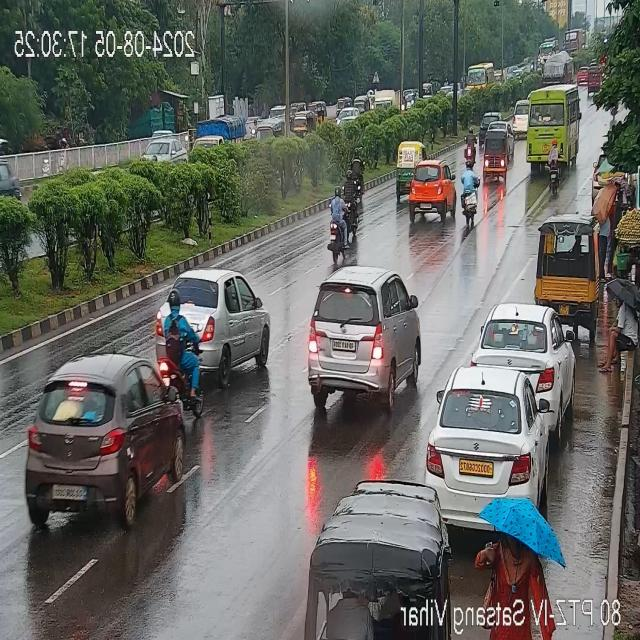2-wheelers: (156, 282, 208, 428), (311, 188, 348, 266), (452, 160, 479, 242), (534, 142, 564, 198), (338, 161, 360, 233), (452, 114, 478, 168), (345, 144, 367, 202), (247, 107, 261, 136)
auto: (312, 479, 448, 594), (530, 212, 600, 316), (476, 120, 508, 192), (392, 137, 427, 193), (257, 110, 283, 142), (292, 100, 313, 138), (312, 97, 326, 123)
bus: (520, 74, 580, 174), (466, 54, 496, 90), (535, 30, 559, 66)
car: (12, 350, 186, 530), (306, 266, 428, 430), (148, 246, 282, 380), (434, 374, 540, 516), (474, 294, 582, 418), (407, 151, 459, 233), (137, 121, 195, 167), (0, 140, 18, 210), (487, 119, 516, 162), (508, 91, 530, 138), (478, 111, 500, 139), (336, 101, 362, 122), (576, 64, 590, 88)
pedestrian: (474, 500, 564, 593), (593, 275, 640, 388), (596, 185, 614, 288)
truck: (188, 98, 248, 144), (542, 49, 572, 88), (375, 83, 401, 113), (564, 22, 584, 48)
